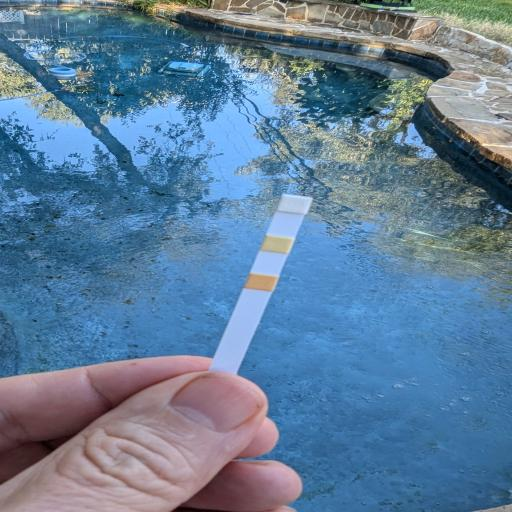strip: (209, 194, 314, 376)
